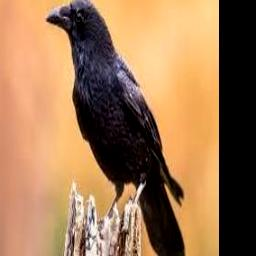Crow: (45, 0, 186, 256)
